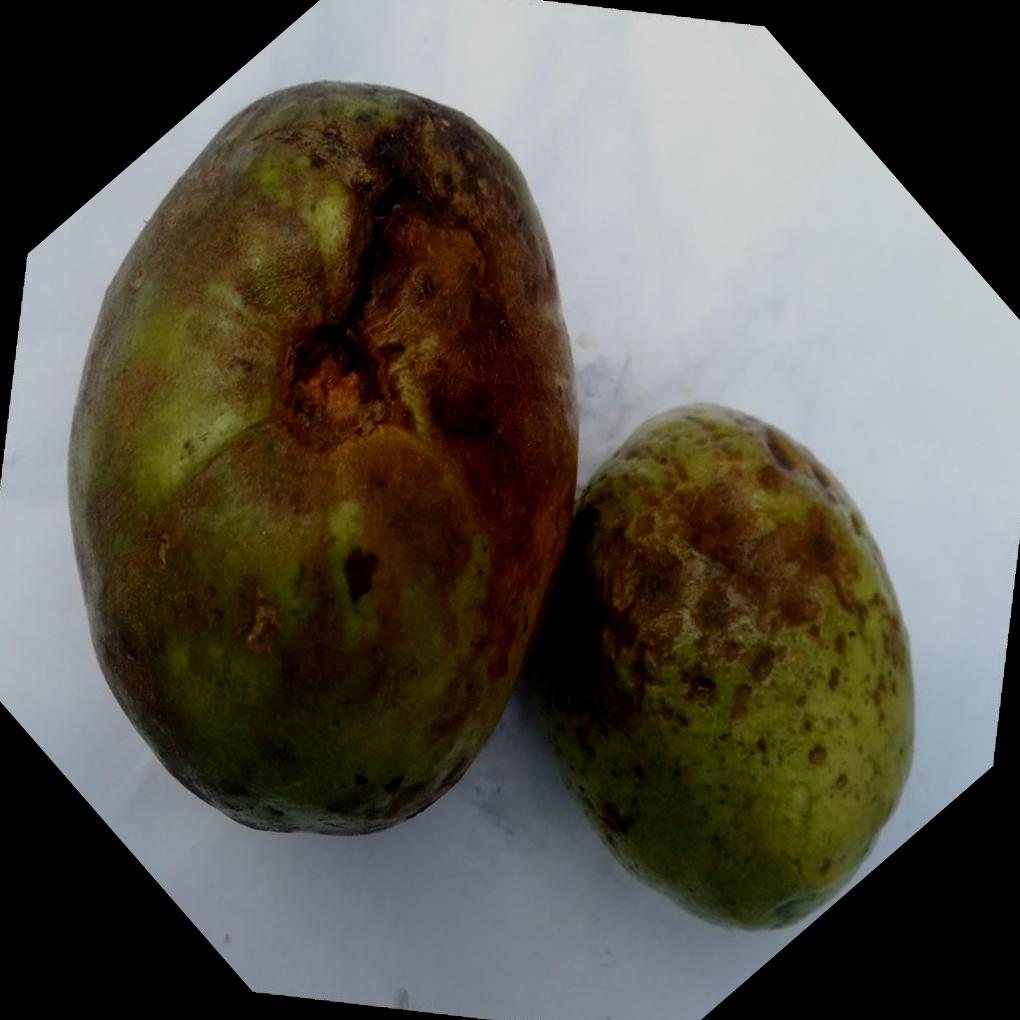FreshOrange: (67, 80, 920, 934)
